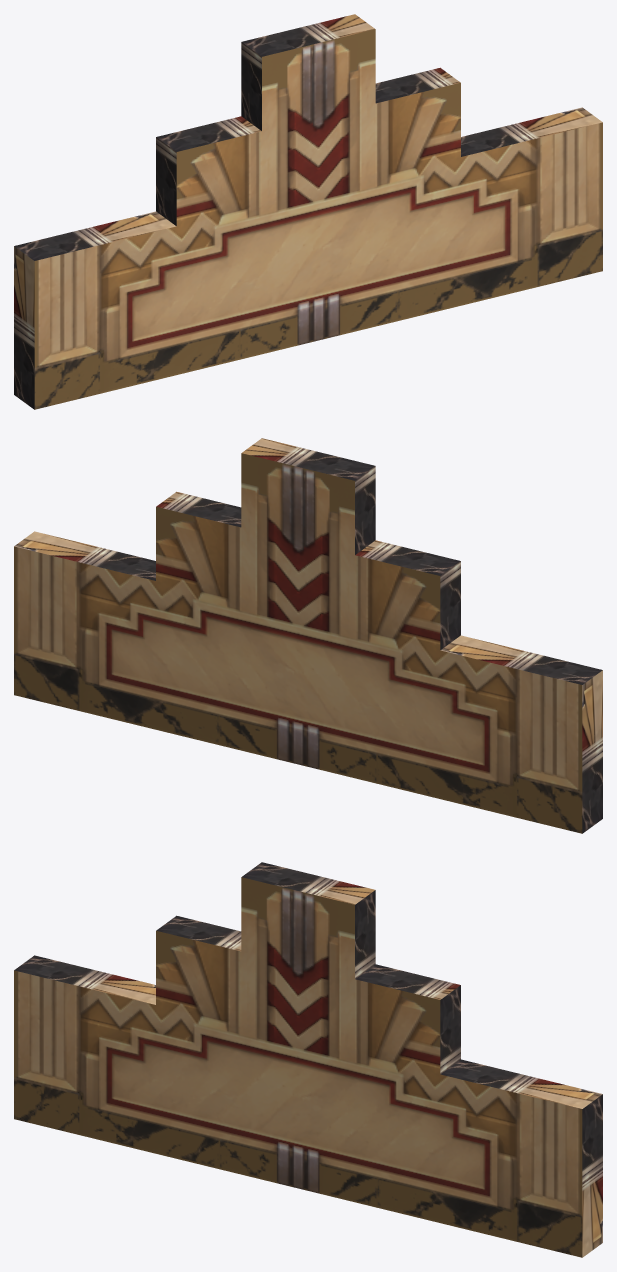
Rendered from DECO_CrestB.fbx.
3 renders of one model, top to bottom at view 1: azimuth 30°, elevation 25°; view 2: azimuth 150°, elevation 25°; view 3: azimuth 330°, elevation 25°, orthographic.
Visible parts, largest first — view 1: DECO_CrestB; view 2: DECO_CrestB; view 3: DECO_CrestB.
Boxes of the visible parts, <box> form: DECO_CrestB: <box>14,14,602,409</box>; DECO_CrestB: <box>14,438,602,833</box>; DECO_CrestB: <box>14,862,602,1257</box>.
Bounding box in the file's own units: 4 × 0.25 × 2.
1 material, 1 textured.
